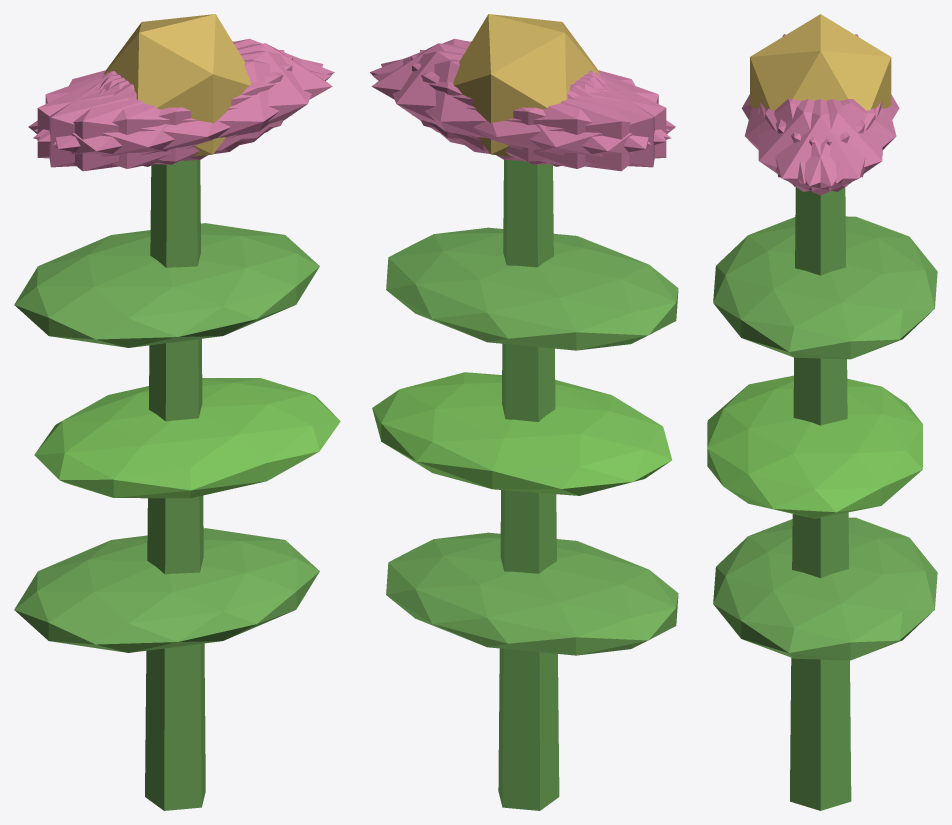
File: hibiscus-rosa-sinensis.glb
3 renders of one model, left to right at view 1: azimuth 30°, elevation 25°; view 2: azimuth 150°, elevation 25°; view 3: azimuth 270°, elevation 25°, orthographic.
Visible parts, largest first — view 1: leaf2, leaf1, leaf0, stem, center, petal1, petal6, petal2, petal5, petal7, petal0, petal4 (+2 smaller); view 2: leaf2, leaf0, leaf1, stem, center, petal8, petal3, petal7, petal4, petal2, petal0, petal5 (+2 smaller); view 3: leaf2, leaf1, leaf0, stem, center, petal0, petal5, petal4, petal1, petal8.
Part boxes in pixels (box(x1,y1,x2,y2)): leaf2: box(14, 223, 319, 347); leaf1: box(34, 378, 340, 498); leaf0: box(14, 528, 319, 652); stem: box(145, 160, 205, 810); center: box(104, 14, 250, 156); petal1: box(33, 59, 331, 168); petal6: box(28, 72, 244, 171); petal2: box(49, 50, 284, 167); petal5: box(53, 51, 323, 161); petal7: box(37, 56, 292, 164); petal0: box(103, 43, 332, 150); petal4: box(34, 38, 334, 141); leaf2: box(386, 227, 678, 350); leaf0: box(386, 532, 678, 655); leaf1: box(372, 372, 671, 495); stem: box(498, 160, 559, 810); center: box(453, 14, 600, 156); petal8: box(372, 59, 670, 168); petal3: box(459, 72, 675, 171); petal7: box(420, 50, 654, 167); petal4: box(381, 51, 650, 161); petal2: box(411, 56, 666, 164); petal0: box(371, 43, 600, 150); petal5: box(370, 38, 669, 141); leaf2: box(713, 216, 937, 359); leaf1: box(707, 375, 922, 518); leaf0: box(713, 517, 937, 660); stem: box(790, 187, 851, 810); center: box(750, 14, 891, 110); petal0: box(760, 99, 881, 195); petal5: box(758, 99, 875, 191); petal4: box(765, 99, 882, 191); petal1: box(745, 99, 865, 183); petal8: box(776, 99, 896, 183).
Bounding box in the file's own units: 0.1453 × 0.3657 × 0.0998.
